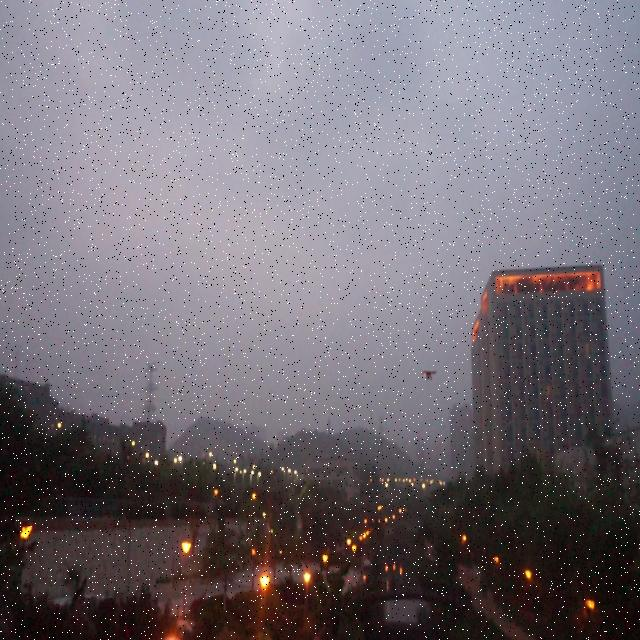UAV: (421, 370, 437, 381)
